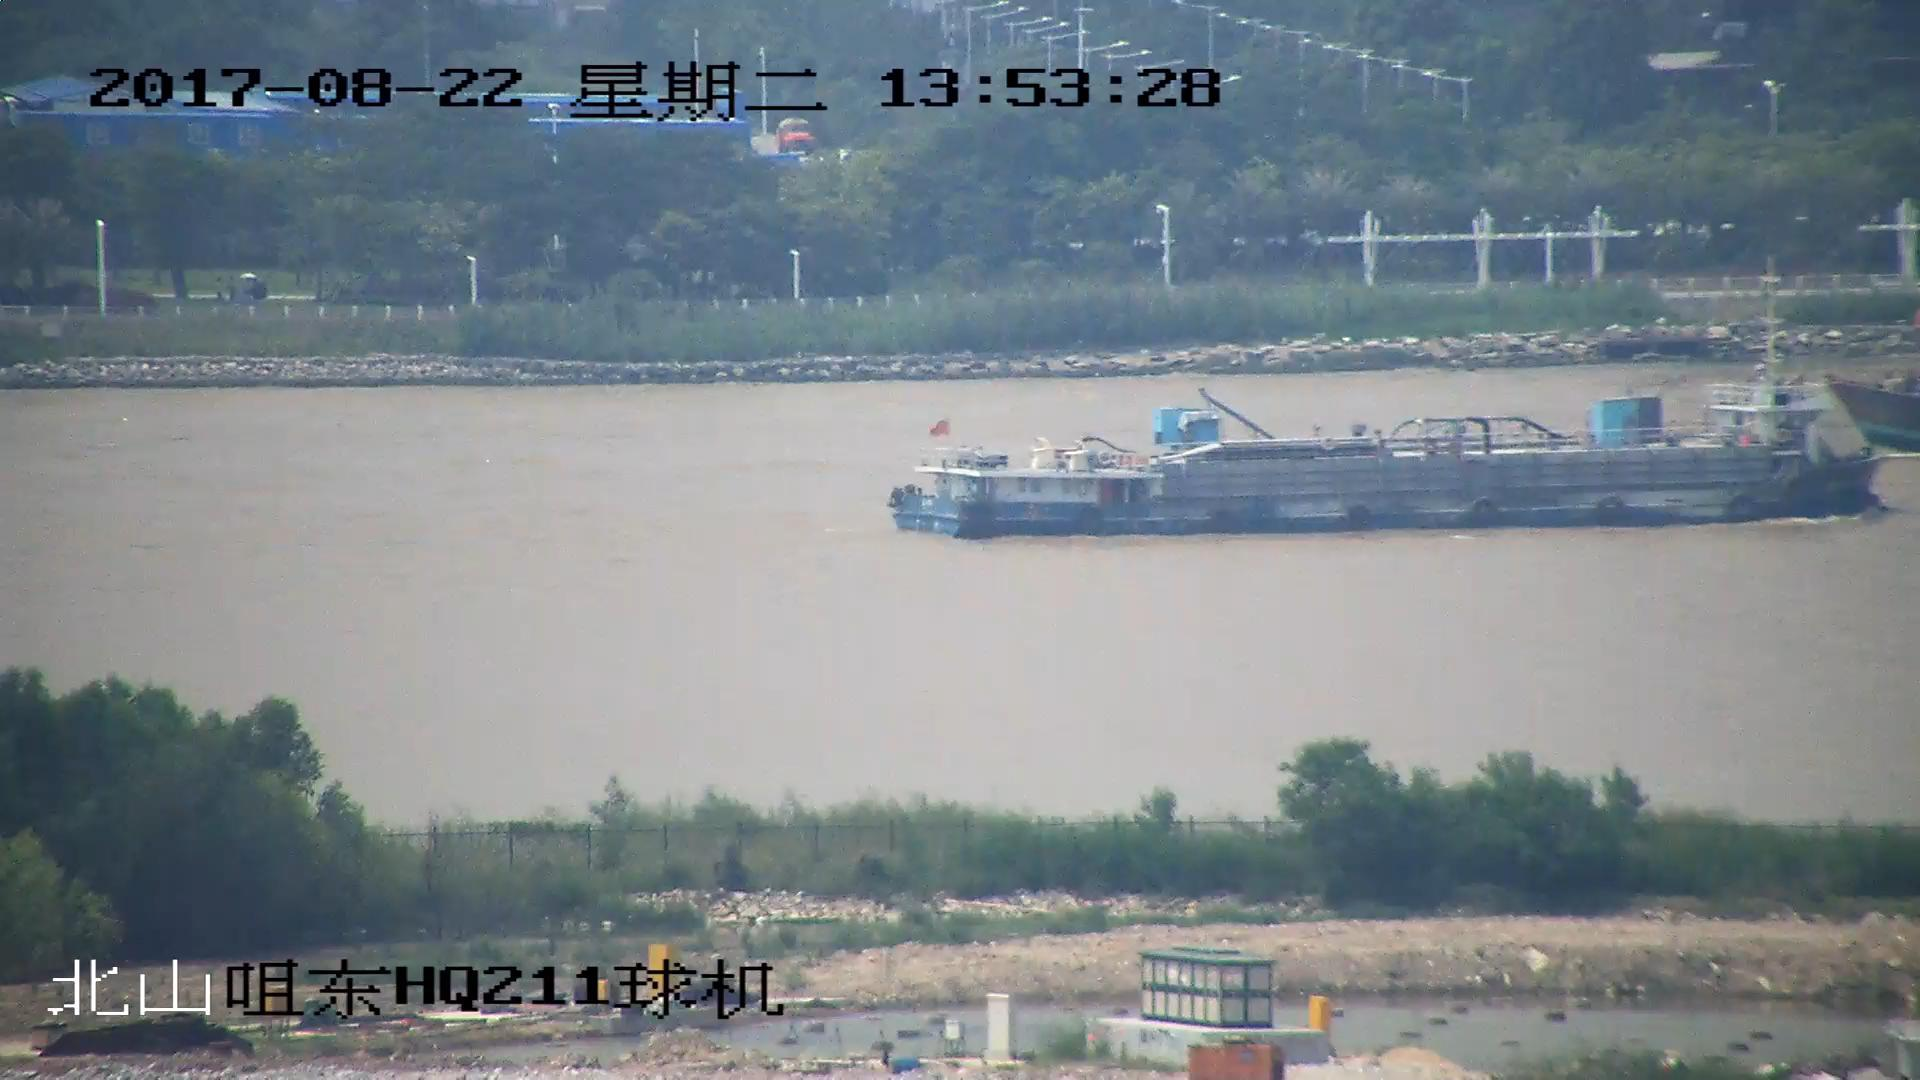Ship: (890, 357, 1888, 541), (1834, 367, 1920, 446)
